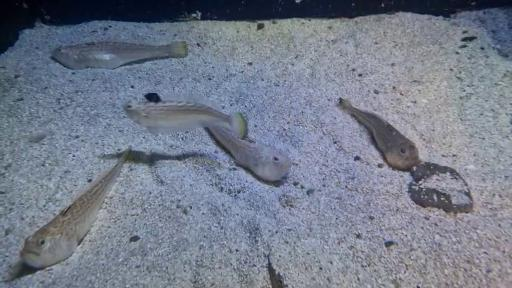Fish: (8, 146, 131, 281), (339, 98, 421, 170), (124, 94, 247, 138), (206, 126, 292, 182), (51, 41, 188, 69), (267, 254, 287, 287)
